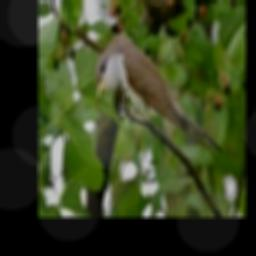Cuckoo: (96, 32, 222, 152)
